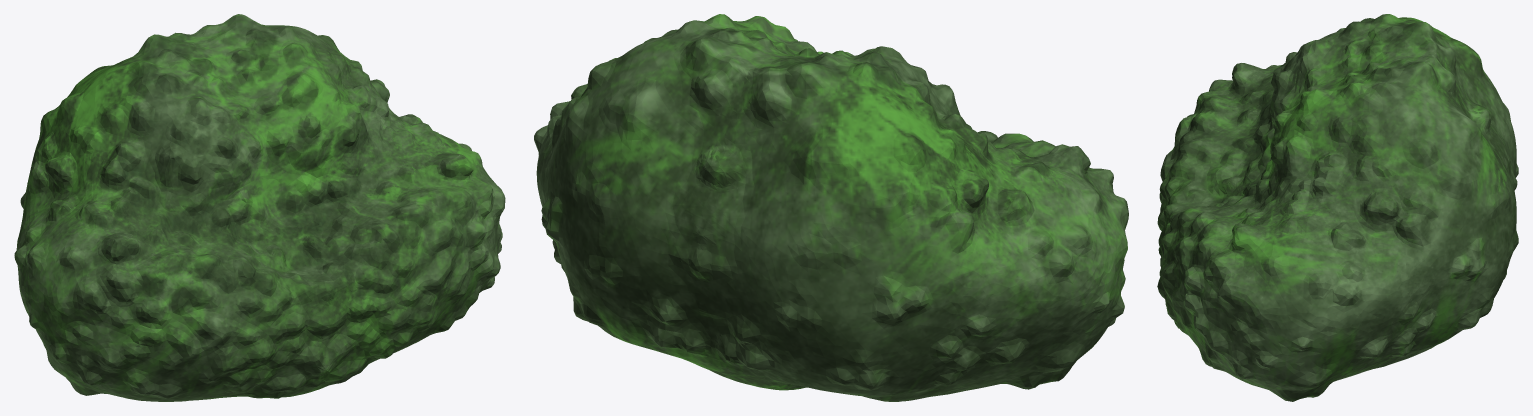
File: Aliento.glb
The picture shows the model from 3 angles, left to right: view 1: azimuth 30°, elevation 25°; view 2: azimuth 150°, elevation 25°; view 3: azimuth 270°, elevation 25°; orthographic projection. The views are drawn at different scales.
Visible parts, largest first — view 1: Aliento; view 2: Aliento; view 3: Aliento.
Boxes of the visible parts, x1,y1,x2,y2 form: Aliento: (14, 14, 505, 401); Aliento: (534, 14, 1128, 401); Aliento: (1157, 14, 1518, 401).
Bounding box in the file's own units: 1.9 × 1.18 × 1.32.
1 material, 1 textured.
